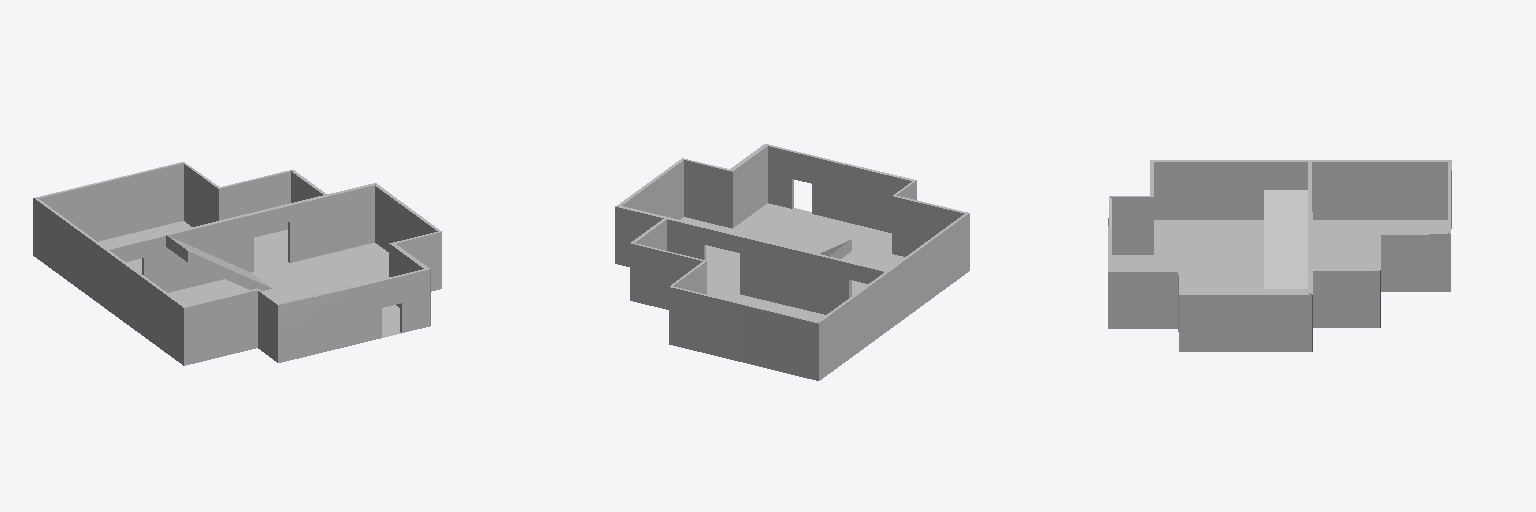
Rendered from house_mesh.obj.
3 views of the same model, side by side, from view 1: azimuth 30°, elevation 25°; view 2: azimuth 150°, elevation 25°; view 3: azimuth 270°, elevation 25° (orthographic).
Visible parts, largest first — view 1: Plane, Cube; view 2: Plane; view 3: Plane, Cube.
Part boxes in pixels (x1,y1,x2,y2): Plane: (33, 162, 441, 365); Cube: (166, 235, 271, 290); Plane: (615, 144, 969, 380); Plane: (1108, 160, 1451, 351); Cube: (1264, 190, 1307, 288).
Size of the model in its own units: 22.57 by 4.6 by 24.5.